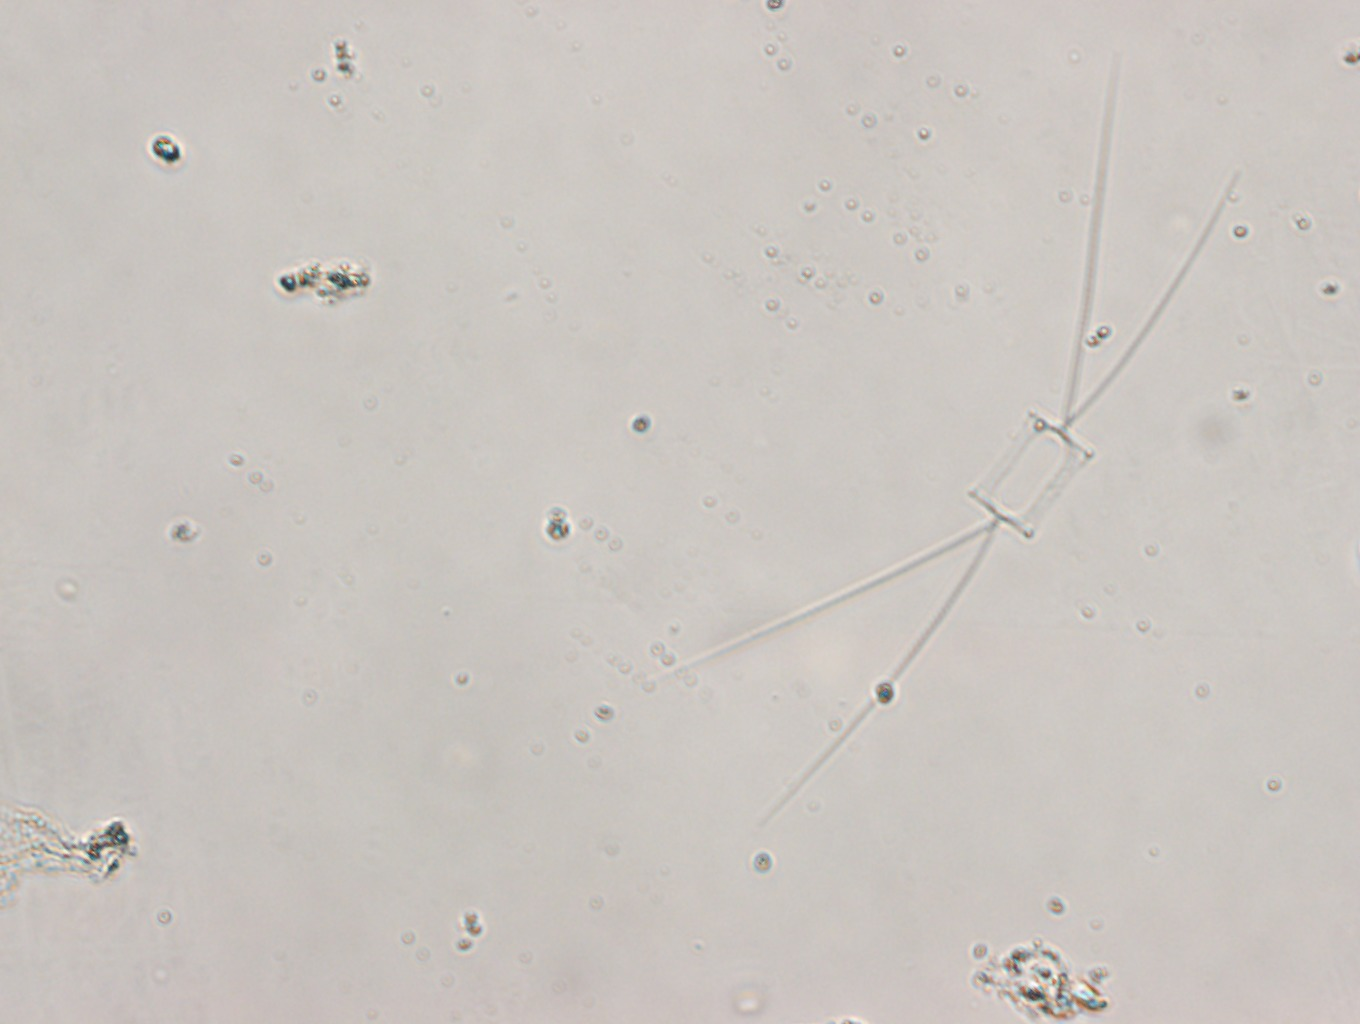chaetoceros: (662, 48, 1243, 826)
